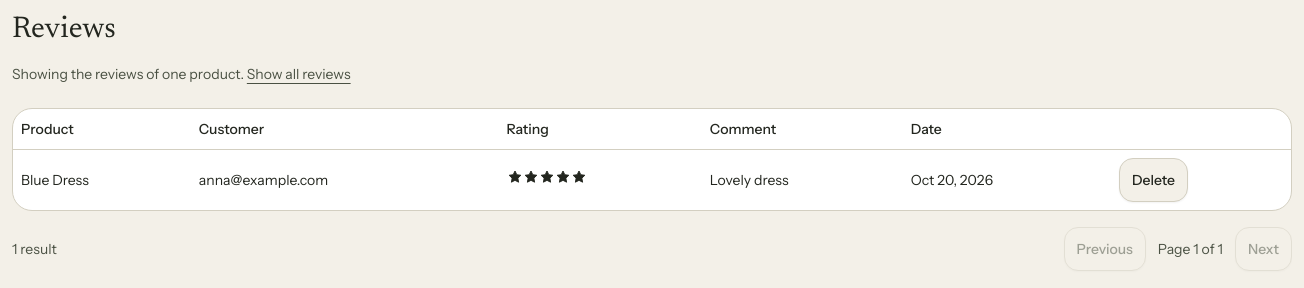
Scenario: admin ReviewsPage › shows all reviews again from the one-product view
This screenshot has width=1304, height=288.
Expected: the text "anna@example.com" is shown, [191,149,498,210]
Step 1. Click the button "Show all reviews" → (299, 74), box [247,64,351,84]
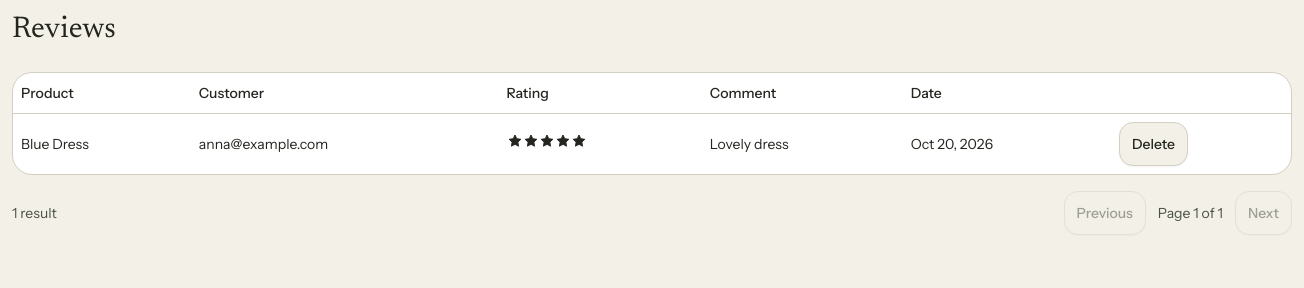
Result: the text "Showing the reviews of one product." is gone
